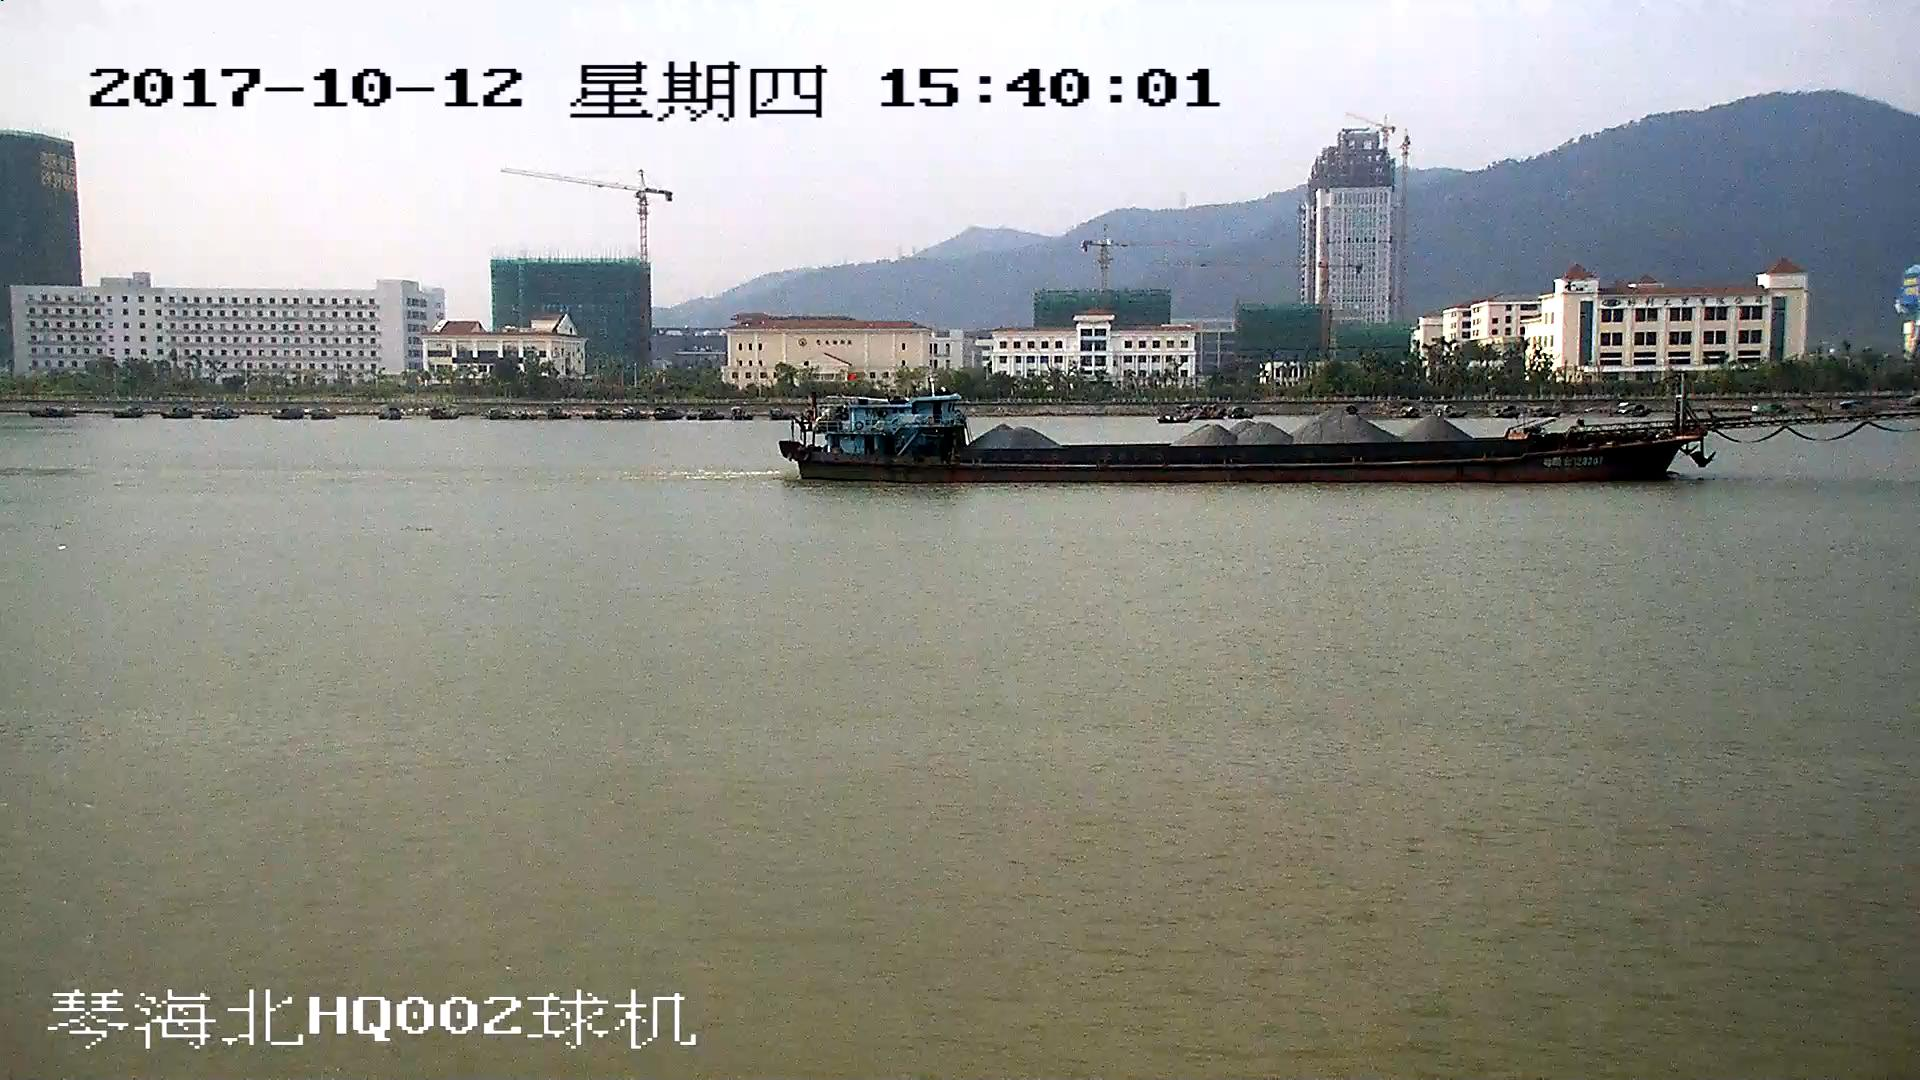ore carrier: (783, 381, 1920, 484)
